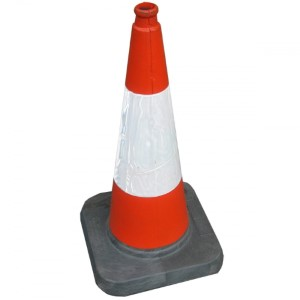traffic cone: (79, 2, 224, 296)
